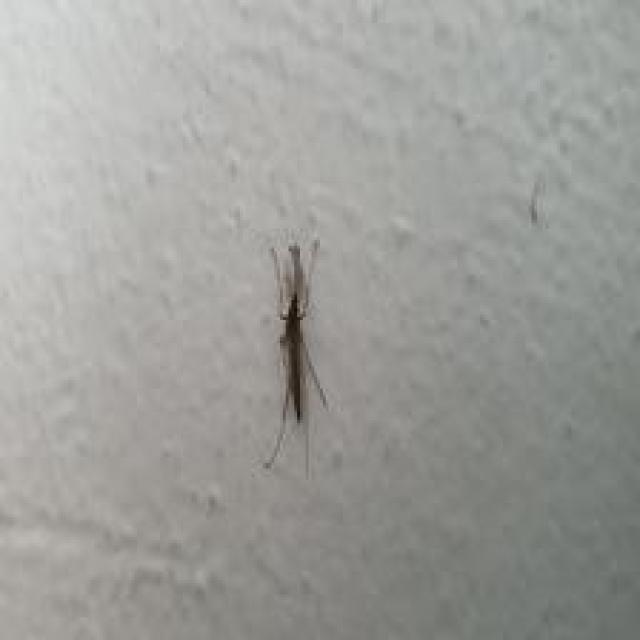Culex: (260, 236, 331, 478)
